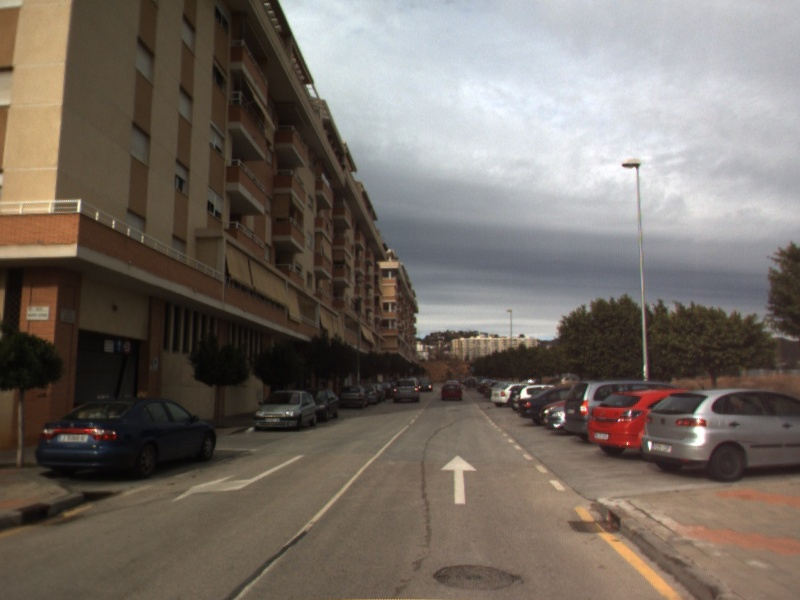STRAIGHT: (439, 453, 478, 506)
